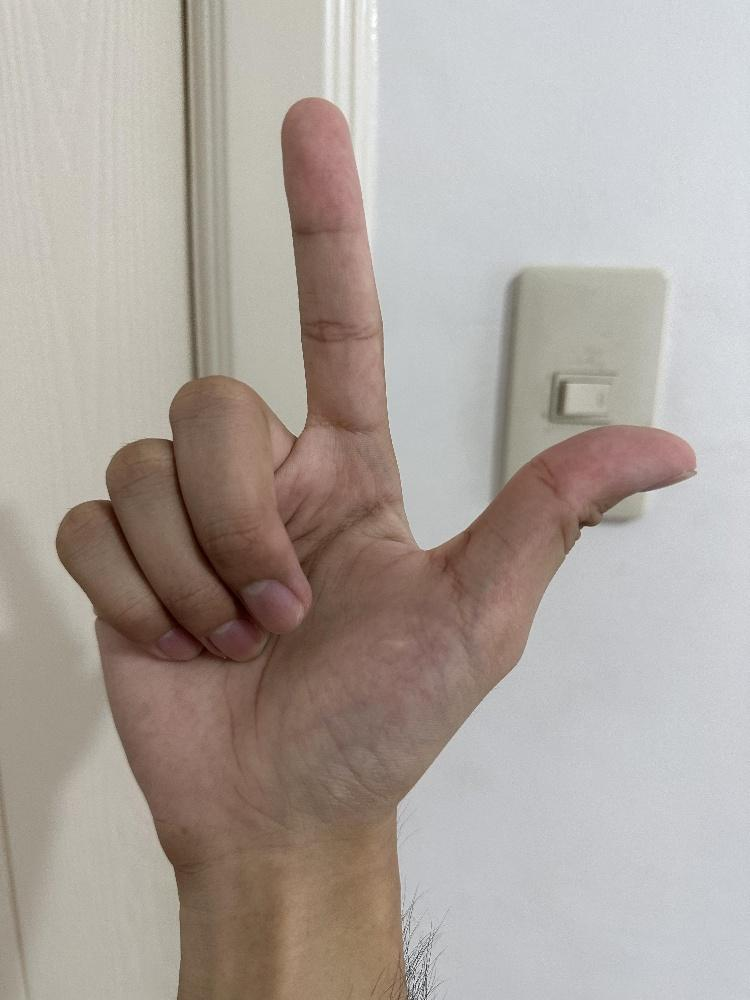l: (51, 91, 698, 874)
